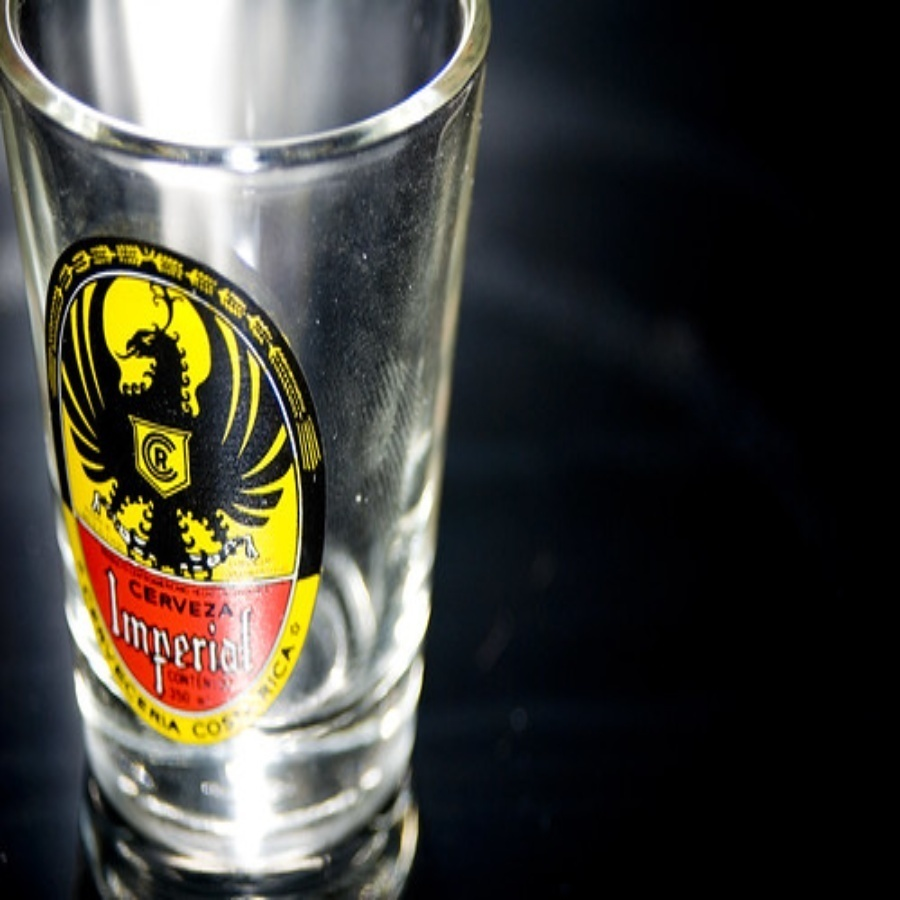whiskey: (61, 3, 483, 888)
